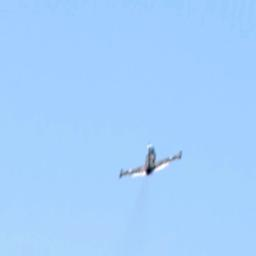Airplane: (119, 144, 183, 179)
